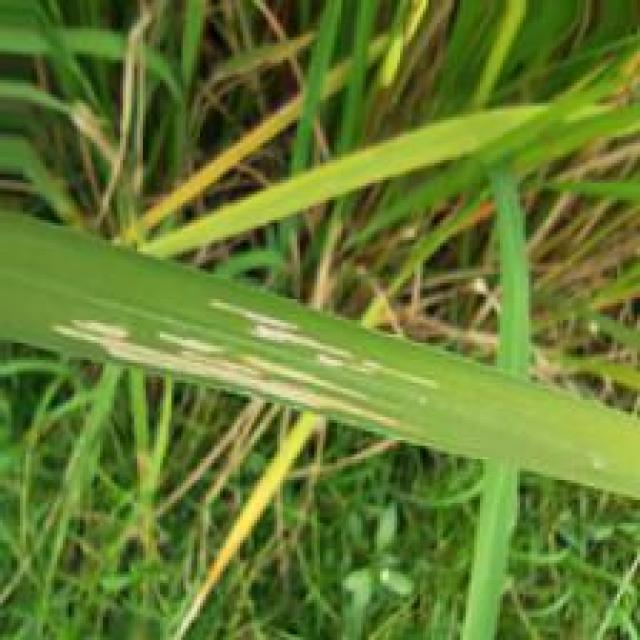Rice_Hispa: (54, 320, 424, 430), (216, 303, 433, 388)
